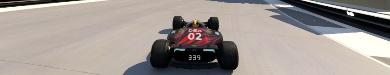Car: (149, 15, 239, 69)
